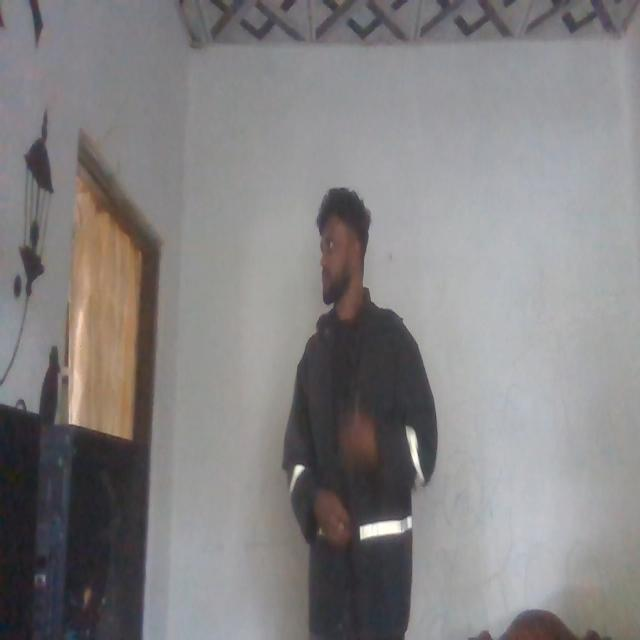Jacket_Wearer: (284, 298, 438, 630)
Person: (282, 184, 438, 640)
